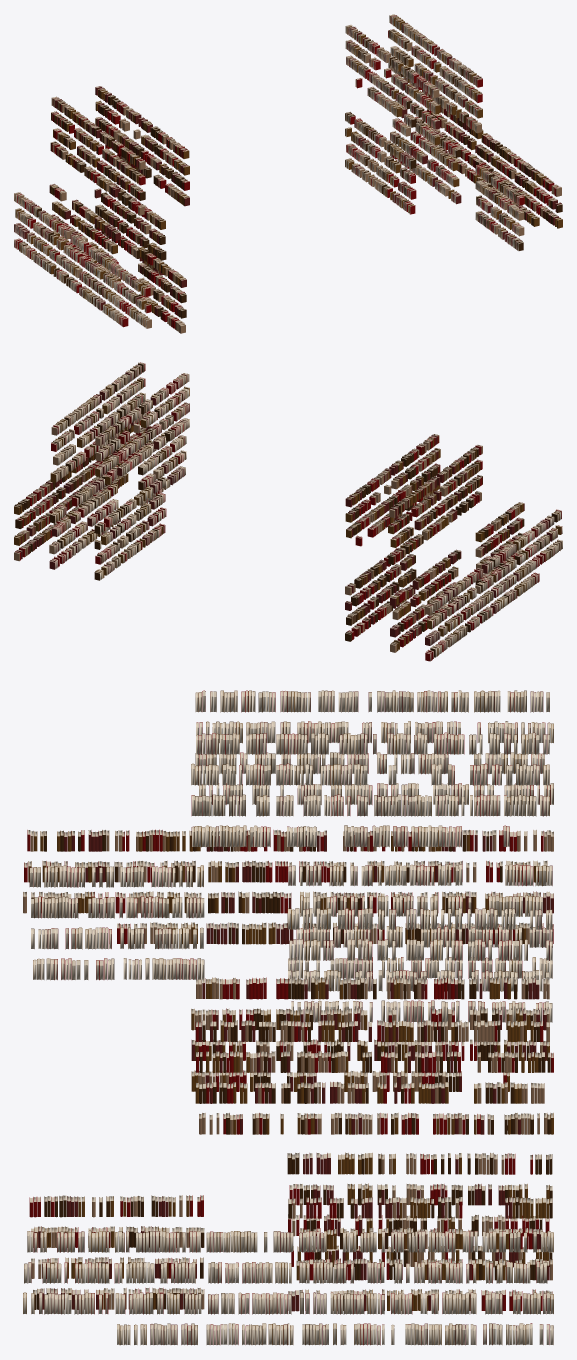
File: books5.glb
3 renders of one model, top to bottom at view 1: azimuth 30°, elevation 25°; view 2: azimuth 150°, elevation 25°; view 3: azimuth 270°, elevation 25°, orthographic. The views are drawn at different scales.
Visible parts, largest first — view 1: books_wall_back, books10, books8, books.001, books6, books_side_4; view 2: books_wall_back, books10, books8, books.001, books6, books_side_4; view 3: books_wall_back, books10, books8, books.001, books6, books_side_4.
Boxes of the visible parts, left/top/right/bottom form: books_wall_back: left=14, top=100, right=562, bottom=328; books10: left=50, top=14, right=482, bottom=215; books8: left=95, top=25, right=440, bottom=206; books.001: left=94, top=112, right=416, bottom=275; books6: left=49, top=101, right=461, bottom=281; books_side_4: left=138, top=164, right=524, bottom=333; books_wall_back: left=14, top=410, right=562, bottom=661; books10: left=50, top=362, right=482, bottom=564; books8: left=95, top=373, right=440, bottom=546; books.001: left=94, top=476, right=416, bottom=641; books6: left=49, top=466, right=461, bottom=652; books_side_4: left=138, top=419, right=524, bottom=585; books_wall_back: left=23, top=829, right=553, bottom=1345; books10: left=195, top=690, right=553, bottom=1134; books8: left=191, top=732, right=549, bottom=1091; books.001: left=287, top=908, right=552, bottom=1267; books6: left=288, top=864, right=552, bottom=1311; books_side_4: left=29, top=865, right=204, bottom=1309.
Size of the model in its own units: 25.99 by 8.49 by 14.34.
Materials: 1 (1 with a texture image).
